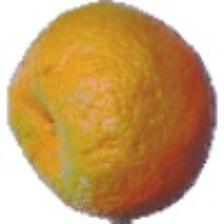tangerine: (33, 24, 221, 169)
